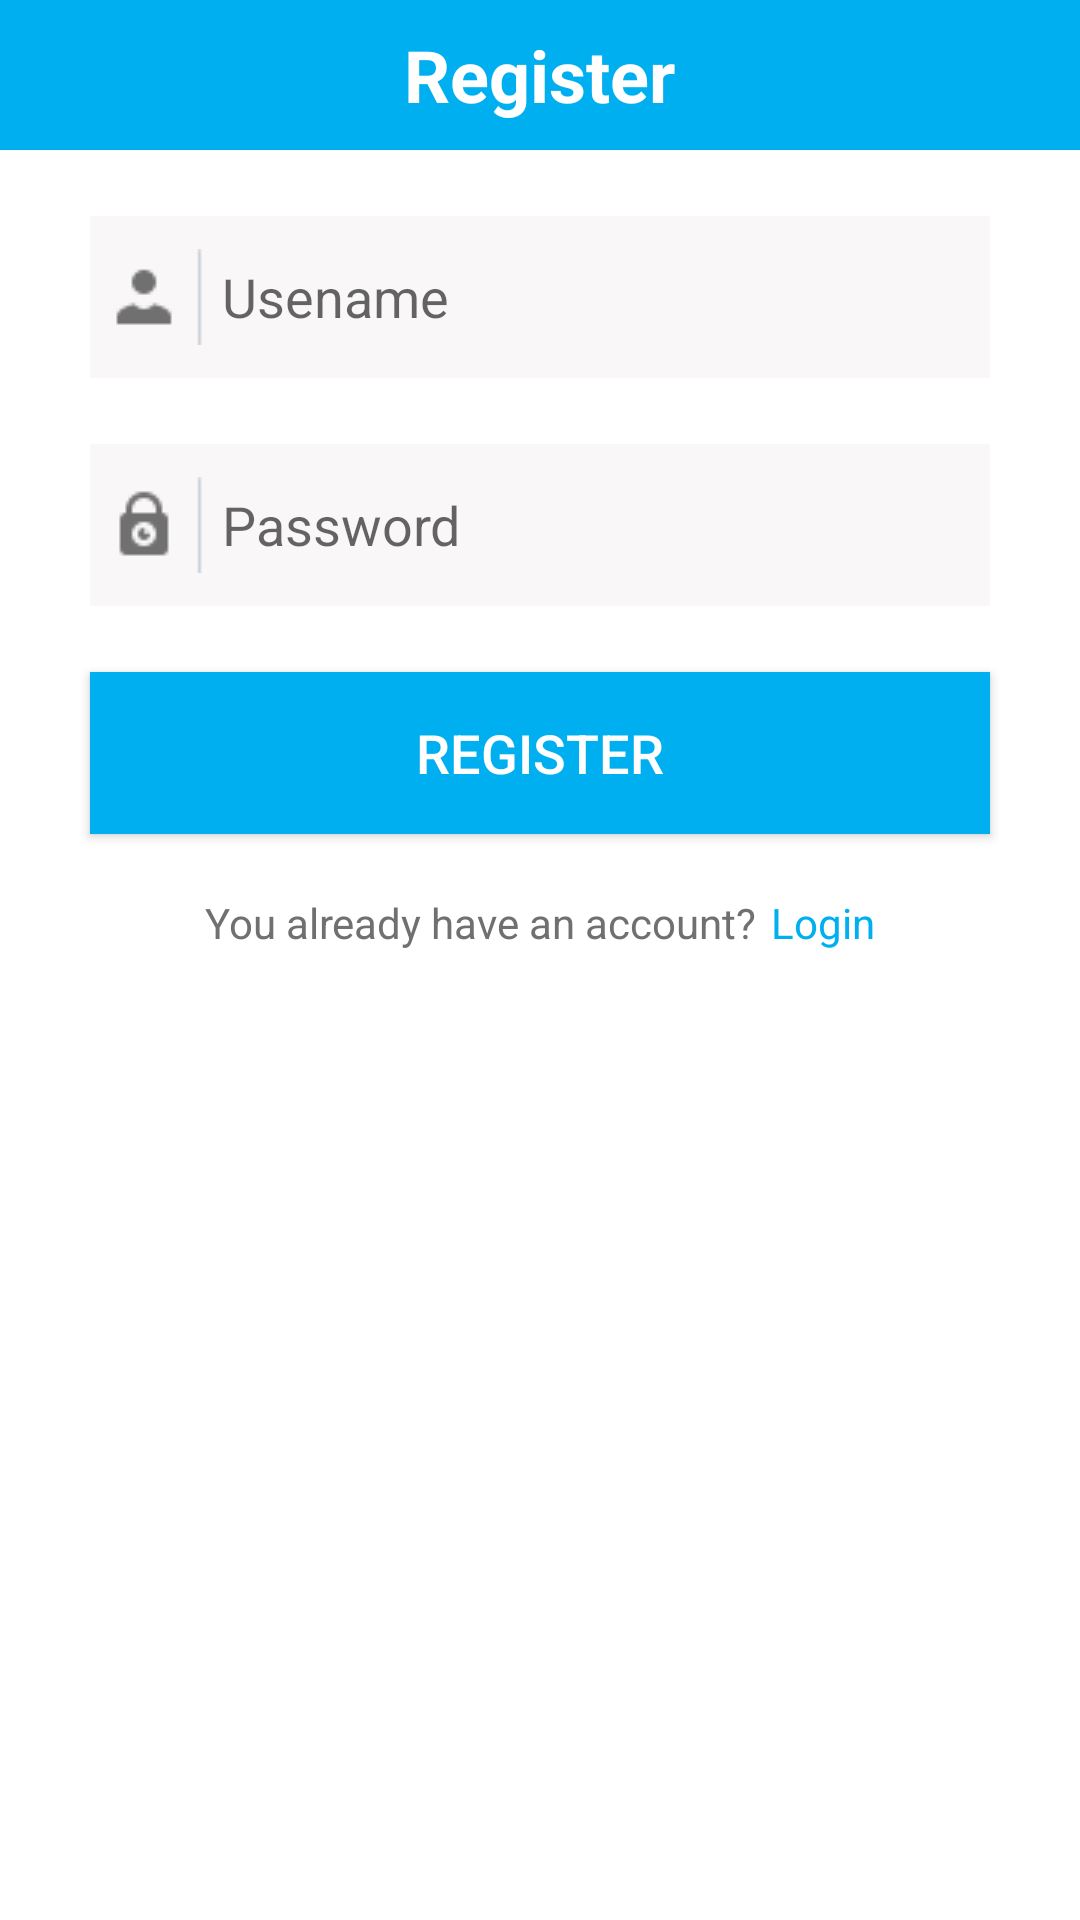

Screen size 1080 × 1920. Icon name, then its box in pixels as (x1, y1, x2, y2):
matkhau: (119, 491, 169, 556)
